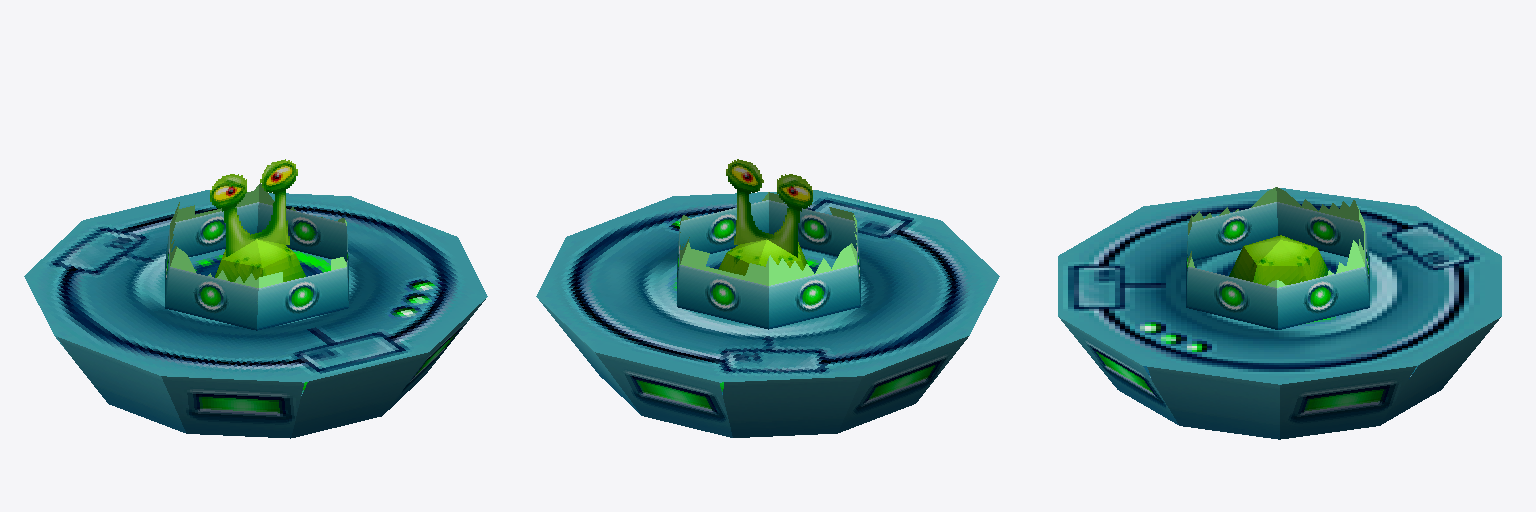
The picture shows the model from 3 angles: view 1: azimuth 30°, elevation 25°; view 2: azimuth 150°, elevation 25°; view 3: azimuth 270°, elevation 25°; orthographic projection.
Parts seen in each view (by area): view 1: T_goobot_saucer; view 2: T_goobot_saucer; view 3: T_goobot_saucer.
Boxes of the visible parts, x1=… form: T_goobot_saucer: x1=24, y1=159, x2=487, y2=438; T_goobot_saucer: x1=536, y1=159, x2=999, y2=437; T_goobot_saucer: x1=1058, y1=187, x2=1501, y2=439.
Size of the model in its own units: 243 by 129 by 231.
1 materials, 1 textured.